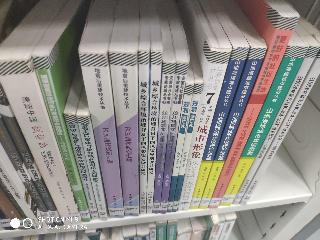book-spine: (203, 11, 298, 210), (213, 41, 307, 209), (0, 54, 81, 232), (232, 46, 318, 206), (238, 54, 320, 206), (193, 44, 267, 211), (184, 45, 249, 210), (171, 46, 229, 212), (33, 55, 90, 222), (81, 52, 123, 220), (109, 54, 138, 215), (157, 63, 186, 214), (149, 63, 175, 213), (172, 83, 201, 212), (165, 85, 193, 212), (66, 113, 98, 220), (77, 115, 108, 221), (143, 52, 161, 213), (139, 52, 148, 213)
